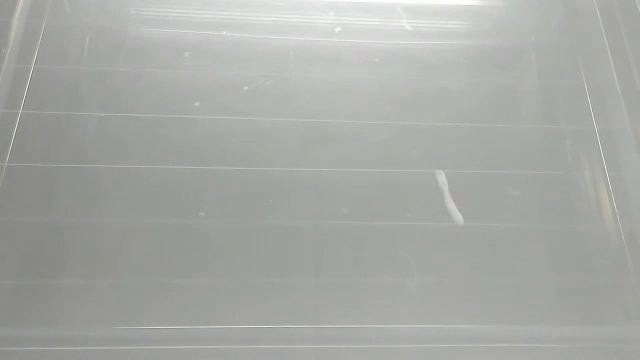alpha: (428, 161, 469, 229)
